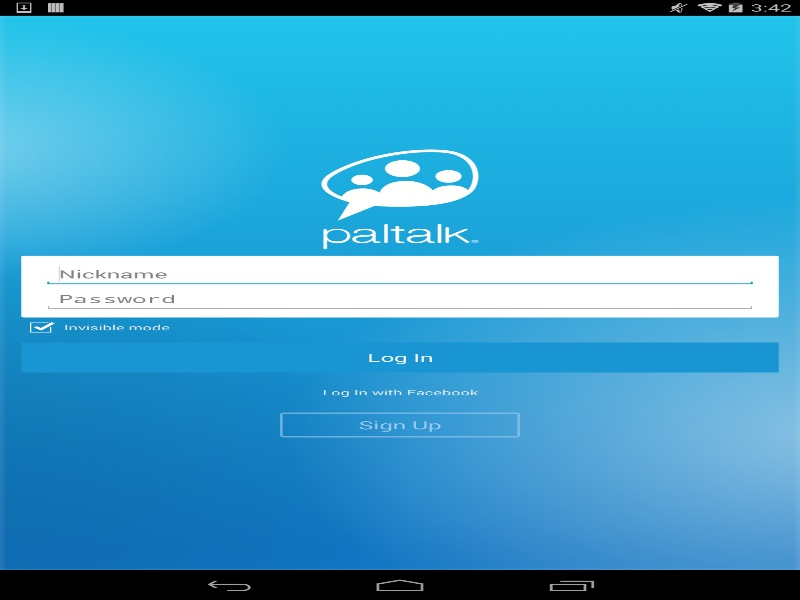Button: (21, 342, 778, 372), (21, 377, 778, 407), (280, 412, 520, 437)
Input: (42, 261, 757, 286), (42, 286, 757, 311)
